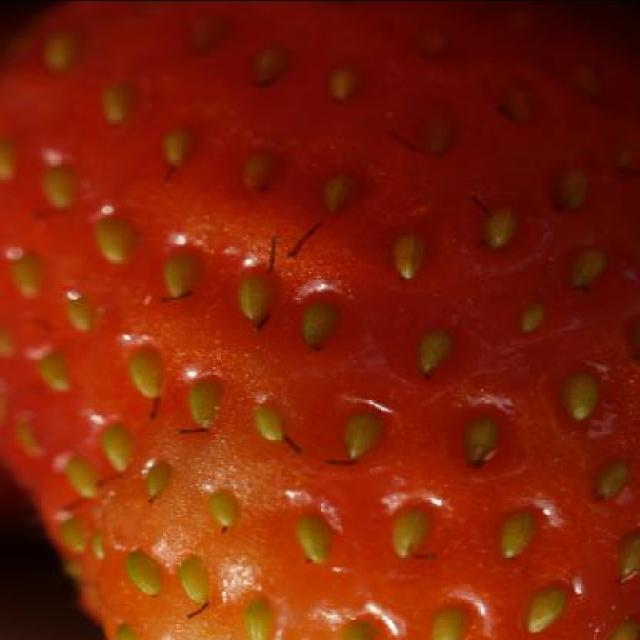Strawberry: (0, 2, 638, 640)
